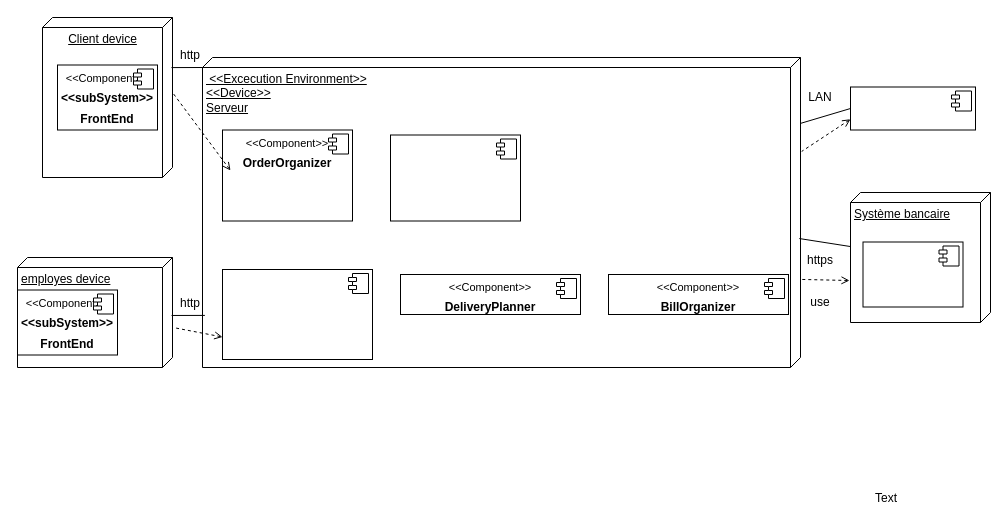
Some shapes in this 1008 by 526 pixel diagram are drawn without their labels. Here are the shapes that lost their labels. From the top down, the centre of each, then its label:
At [913,108]: "<<Component>> DataBase".
At [455,177]: "<<Component>> ProductOrganizer".
At [912,274]: "<<Component>> <<subSystem>> API".
At [297,314]: "<<Component>> StaffOrganizer".
